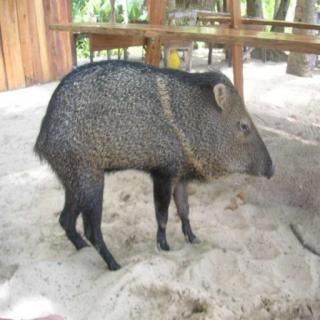Pig: (15, 43, 278, 294)
